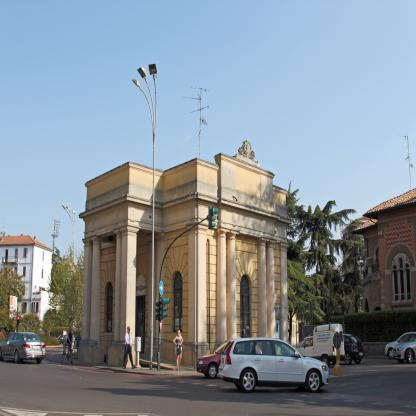Car: (216, 336, 330, 397), (197, 339, 266, 376), (0, 329, 47, 366), (383, 327, 416, 360), (340, 334, 364, 365), (398, 337, 416, 363), (57, 333, 74, 344), (297, 336, 312, 348)
